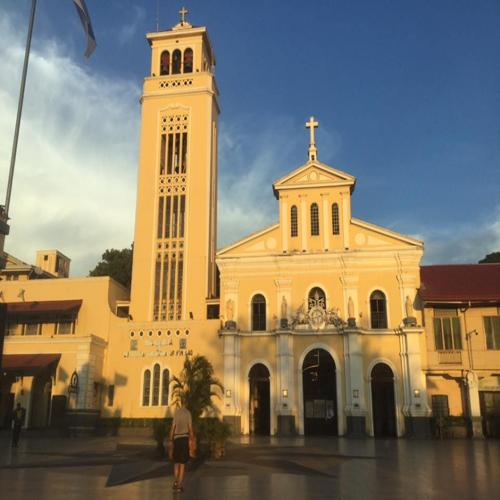Manaoag Church: (128, 8, 426, 449)
